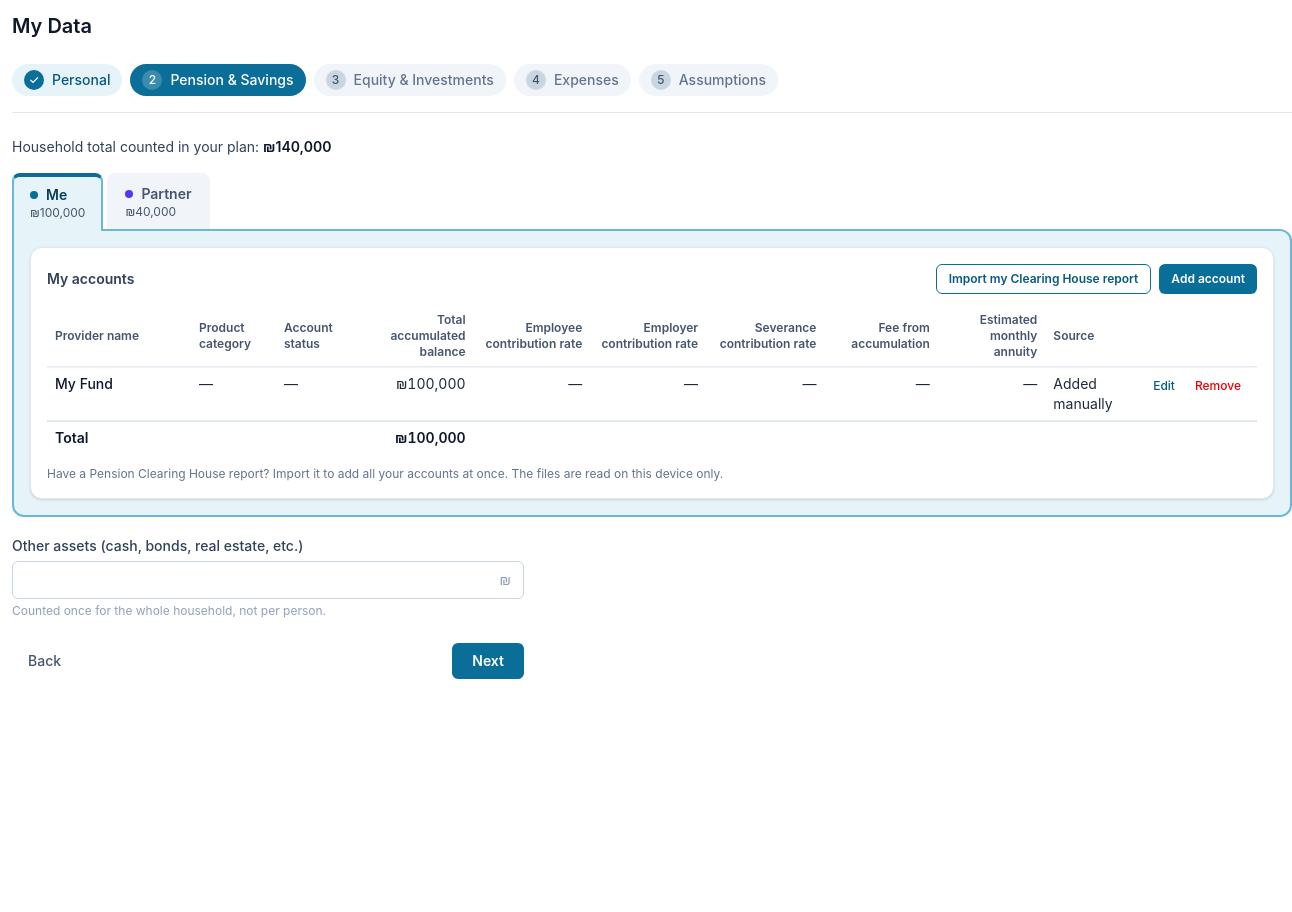
Test: My Data summary tables — Pension & Savings › shows one table per person, each totalling only that person's accounts
Expected: the text "My Fund" is shown, [55,375,113,392]
Expected: the text "Partner Fund" is not shown
Click the tab "Partner ₪40,000" at point(158, 201), box [107,173,210,229]
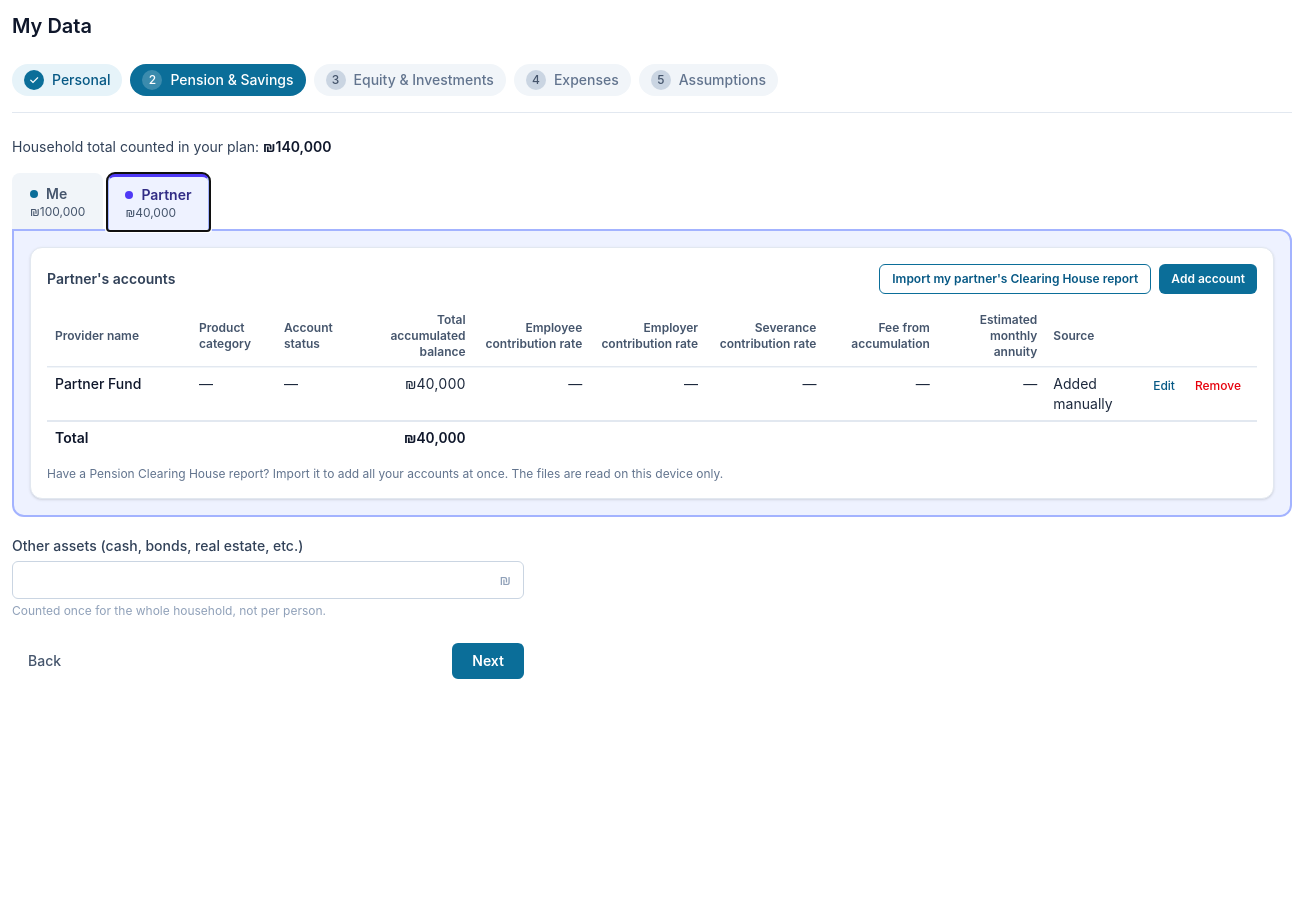
Expected: the text "Partner Fund" is shown, [55,375,141,392]
Expected: the text "My Fund" is gone
